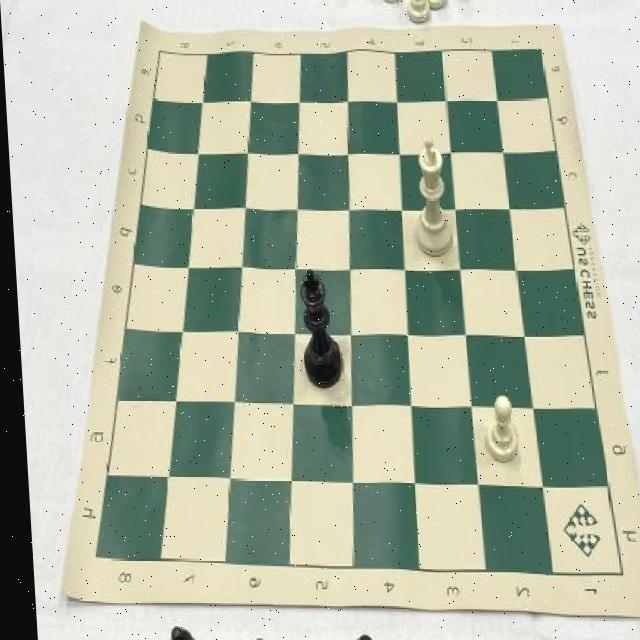black-bishop: (288, 263, 343, 393)
white-bishop: (407, 137, 455, 261)
white-knight: (476, 391, 517, 466)
